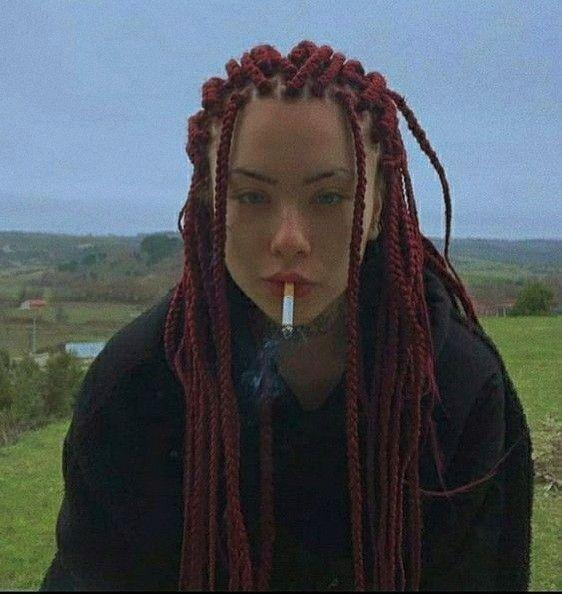cigarette: (282, 281, 295, 336)
